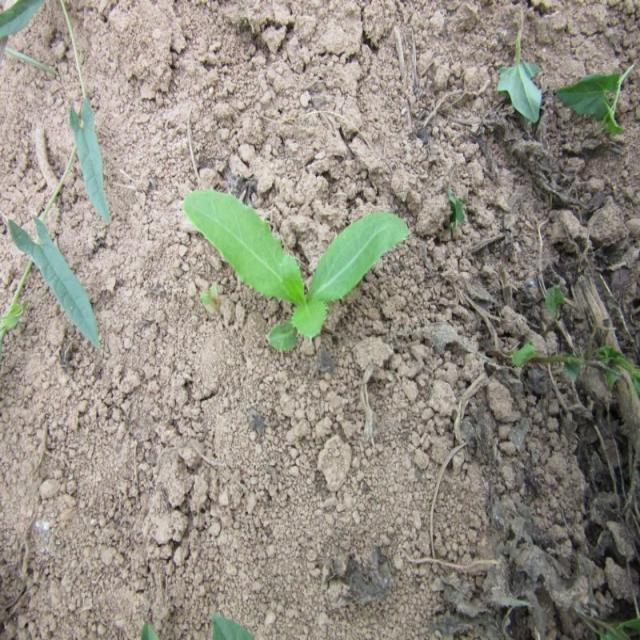cs: (182, 176, 419, 360)
